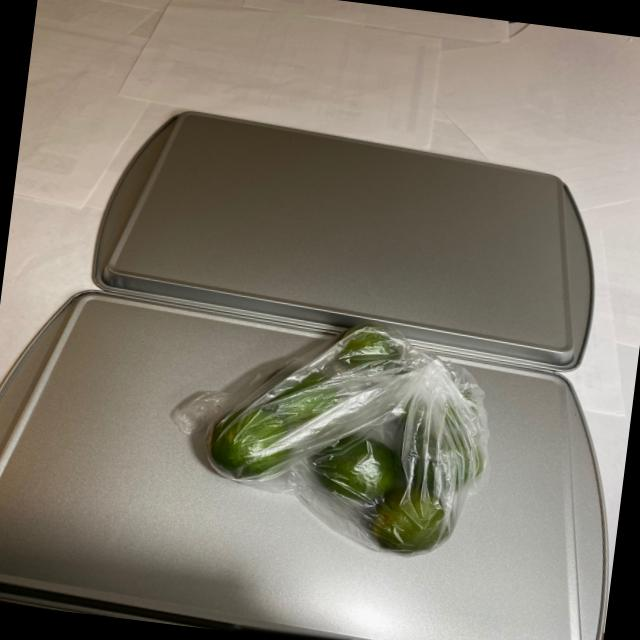lemon: (198, 309, 487, 560)
